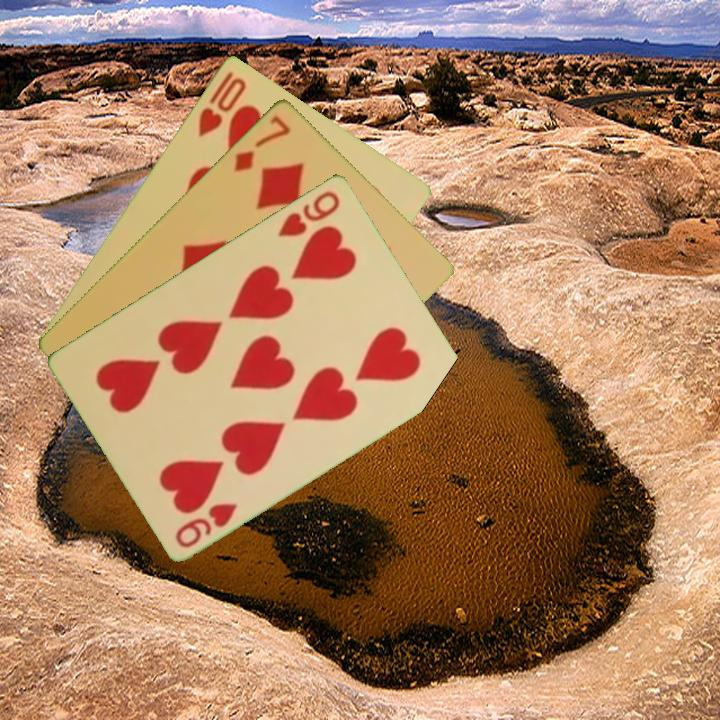10h: (194, 67, 249, 140)
7d: (230, 111, 294, 175)
9h: (171, 498, 241, 551), (274, 186, 343, 239)
